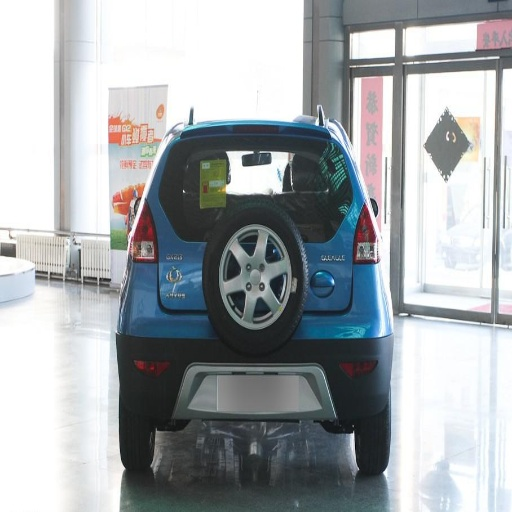back_bumper: (119, 246, 397, 421)
trunk: (300, 196, 356, 311), (155, 203, 213, 313)
